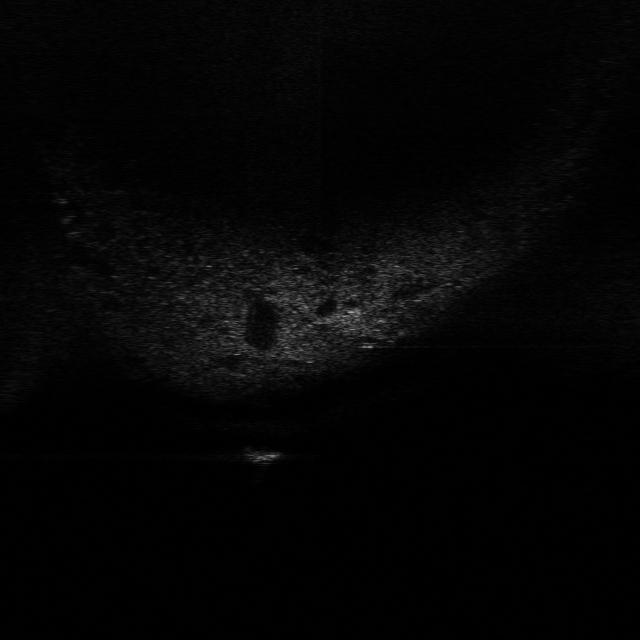cube: (233, 440, 288, 468)
